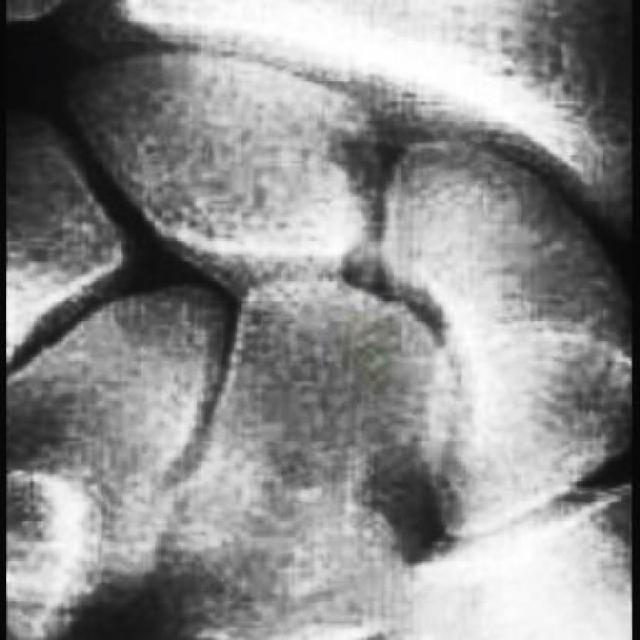Fracture: (451, 271, 636, 411)
